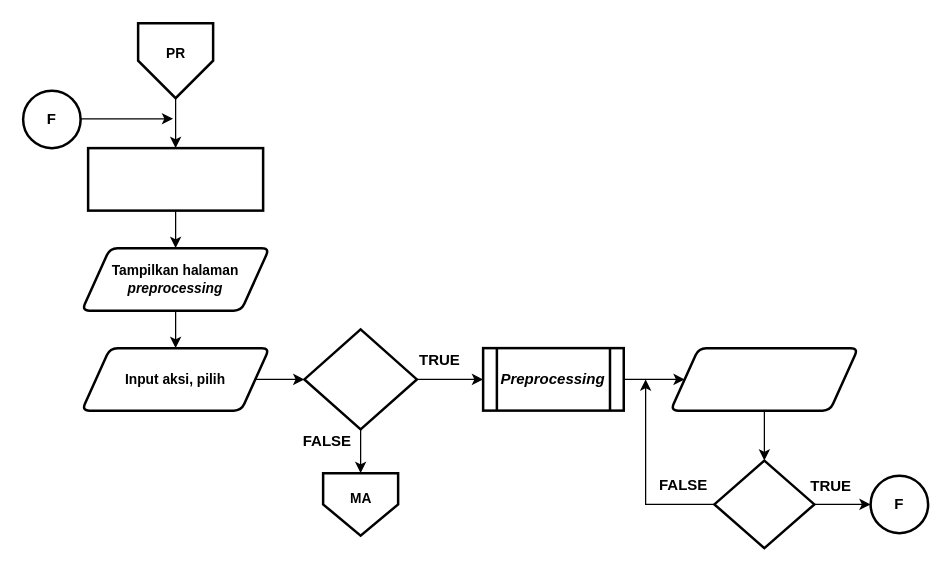
This 950x570 diagram has some shape labels left out. The box of each missing label's shape, as (x1, y1, x2, y2) in pixels:
aksi == preprocessing data: (302, 328, 418, 430)
pilih == kembali: (712, 459, 815, 549)
Select data preprocessing dari database: (86, 146, 264, 211)
Tampil hasil preprocessing: (669, 346, 859, 411)
